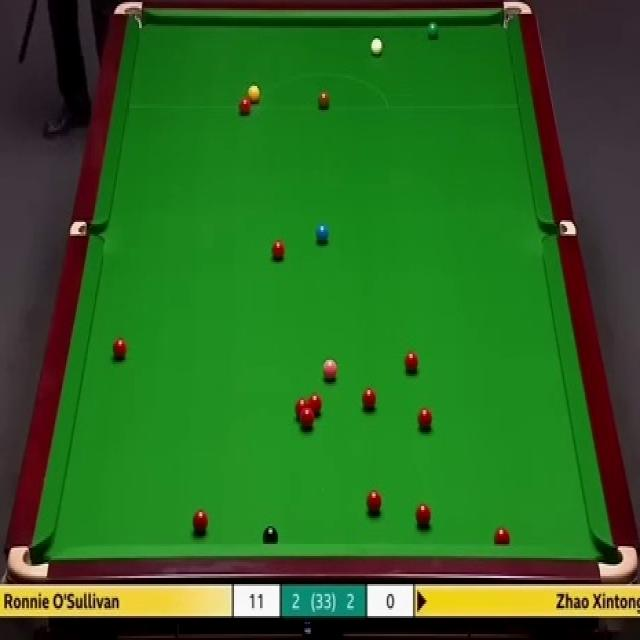black-ball: (262, 525, 280, 546)
blue-ball: (316, 222, 329, 246)
brown-ball: (318, 88, 330, 108)
green-ball: (426, 22, 439, 40)
pink-ball: (322, 359, 339, 384)
red-ball: (358, 385, 376, 411), (191, 508, 208, 535), (415, 504, 432, 530), (404, 349, 420, 375), (366, 490, 382, 516), (417, 406, 433, 429), (112, 335, 126, 360), (294, 398, 308, 422), (309, 393, 322, 418), (272, 237, 284, 264), (493, 526, 511, 543), (300, 411, 316, 430), (236, 96, 252, 115)
white-ball: (369, 37, 383, 58)
yellow-ball: (247, 86, 259, 102)
